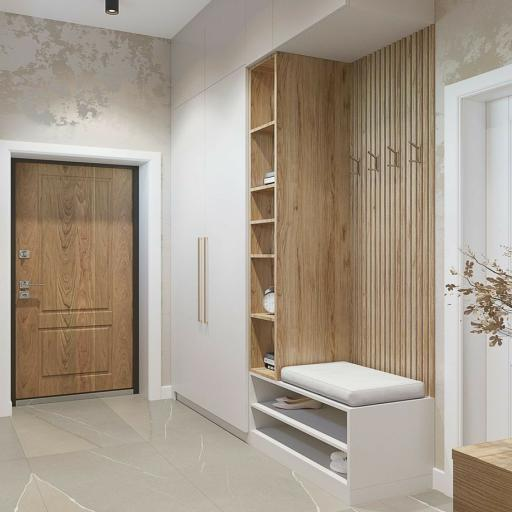child: (14, 161, 134, 399)
